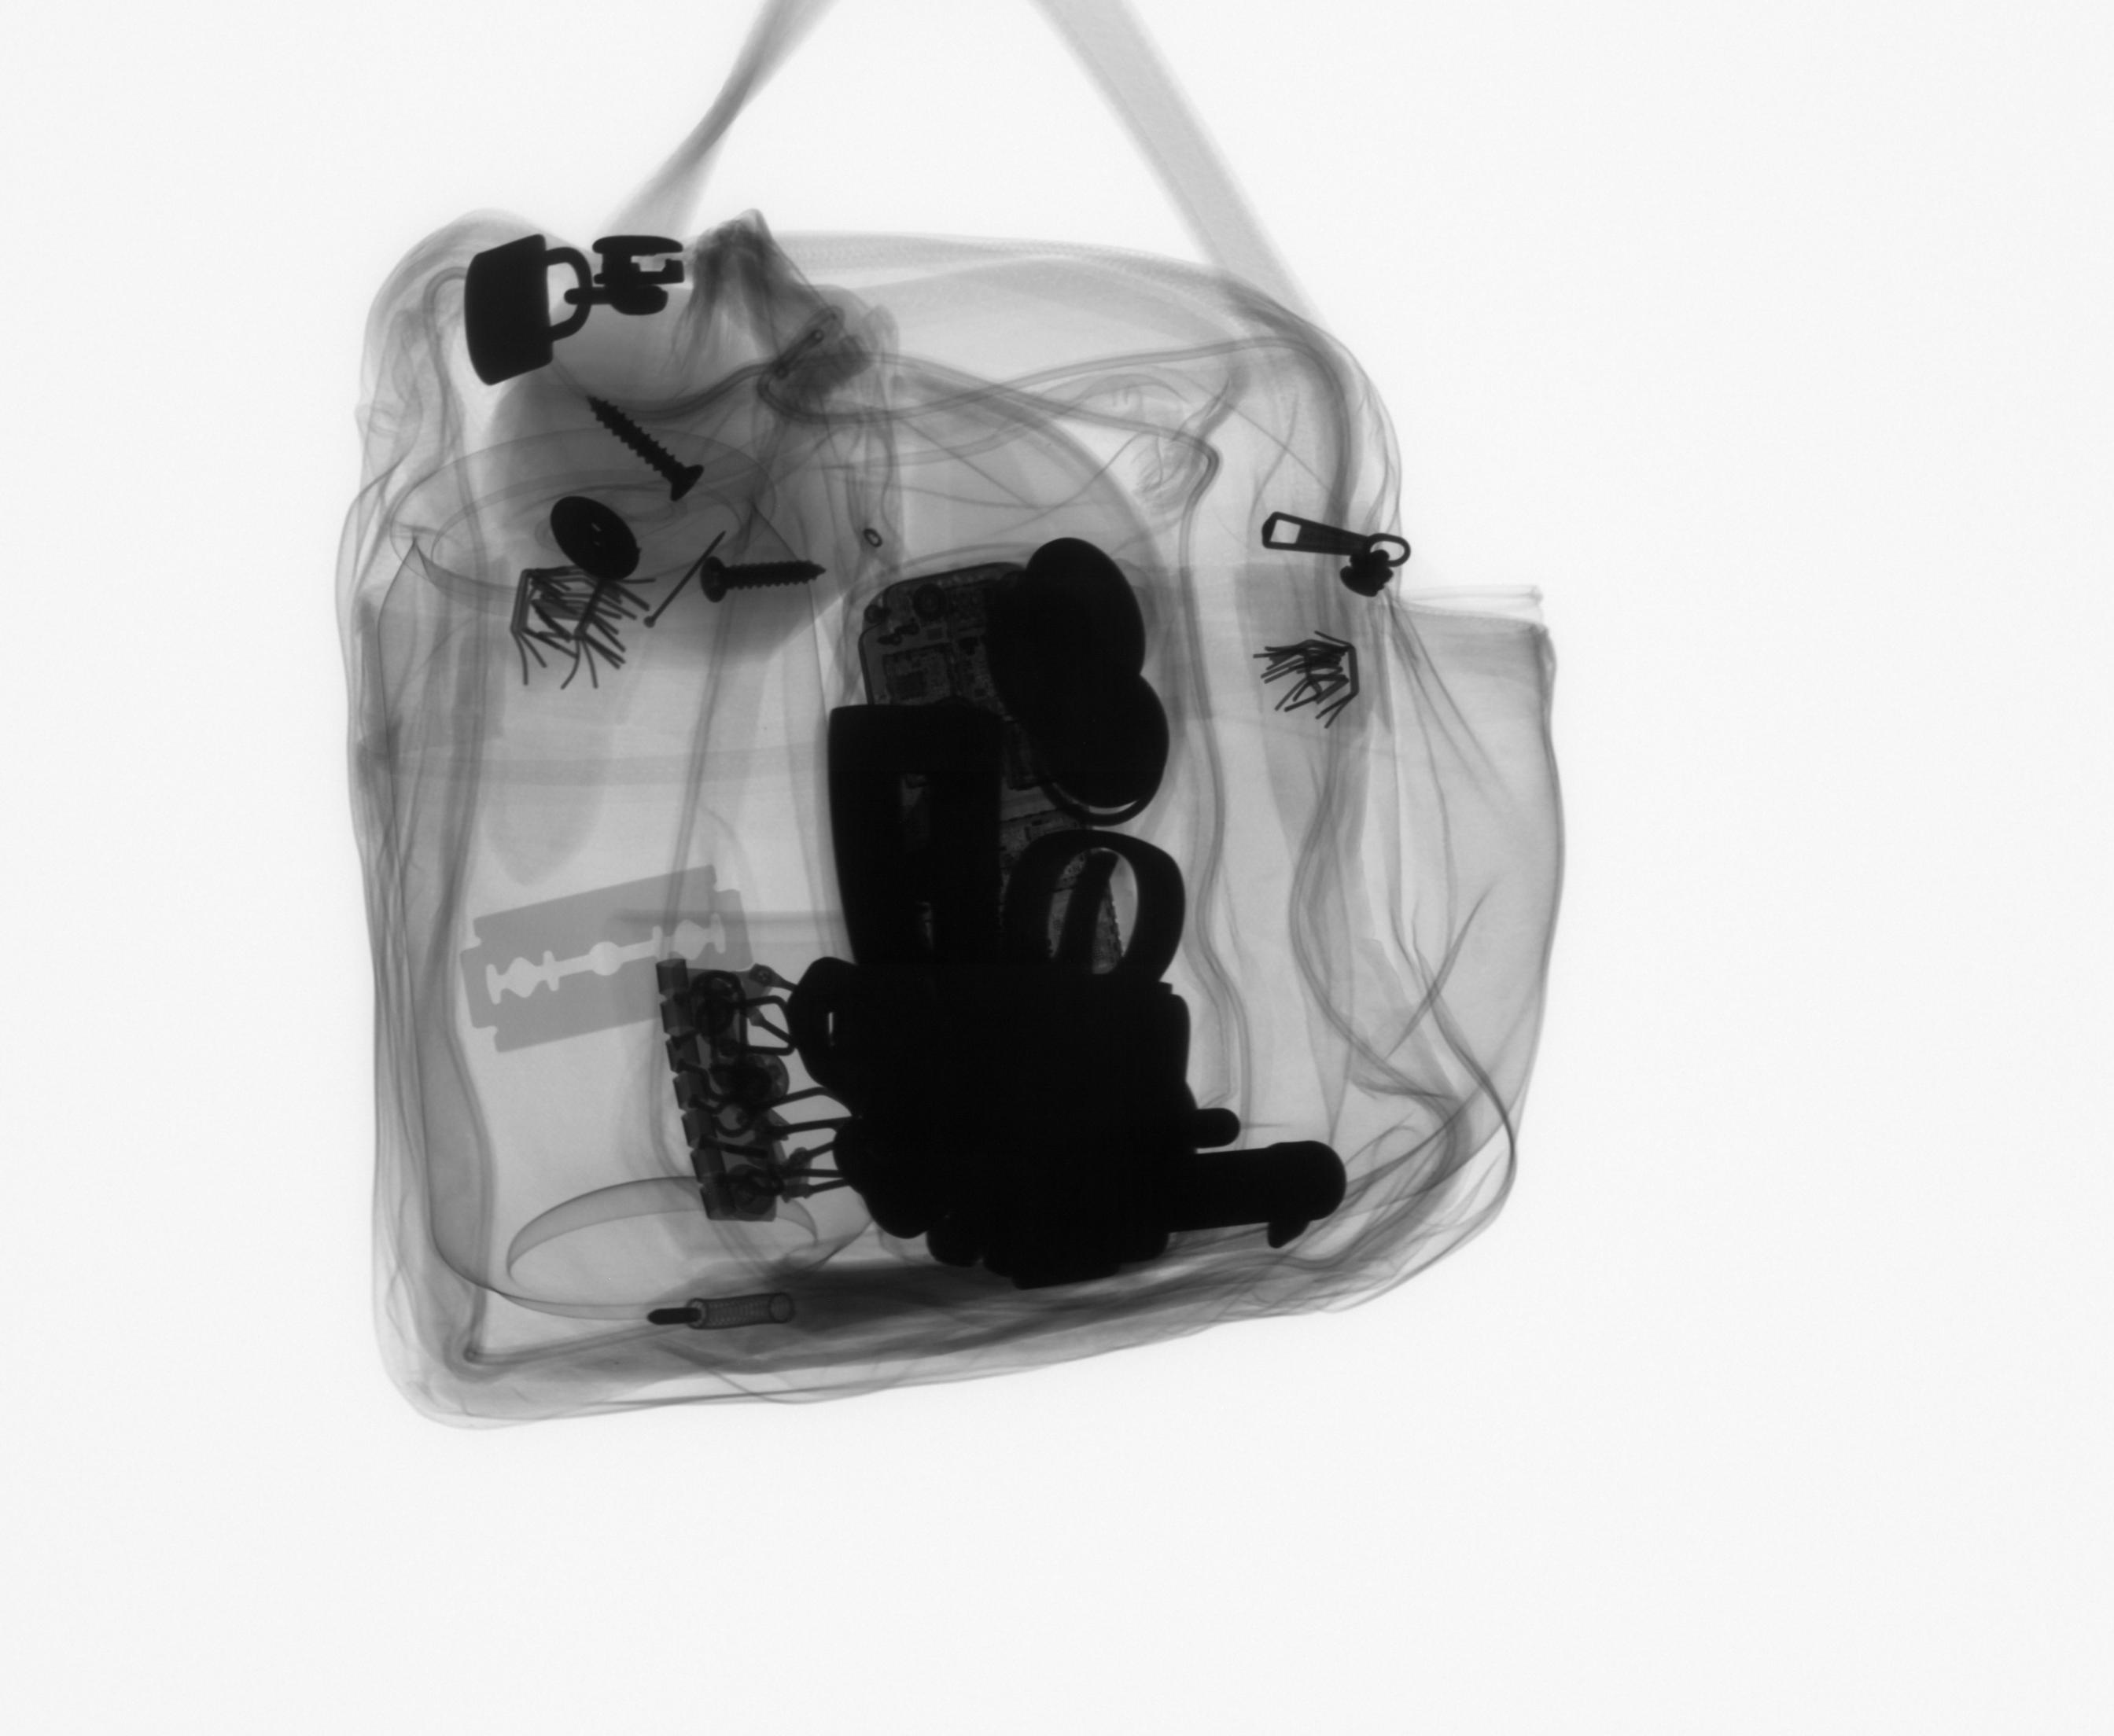Handgun: (811, 695, 1357, 1281)
RazorBlade: (451, 858, 760, 1057)
